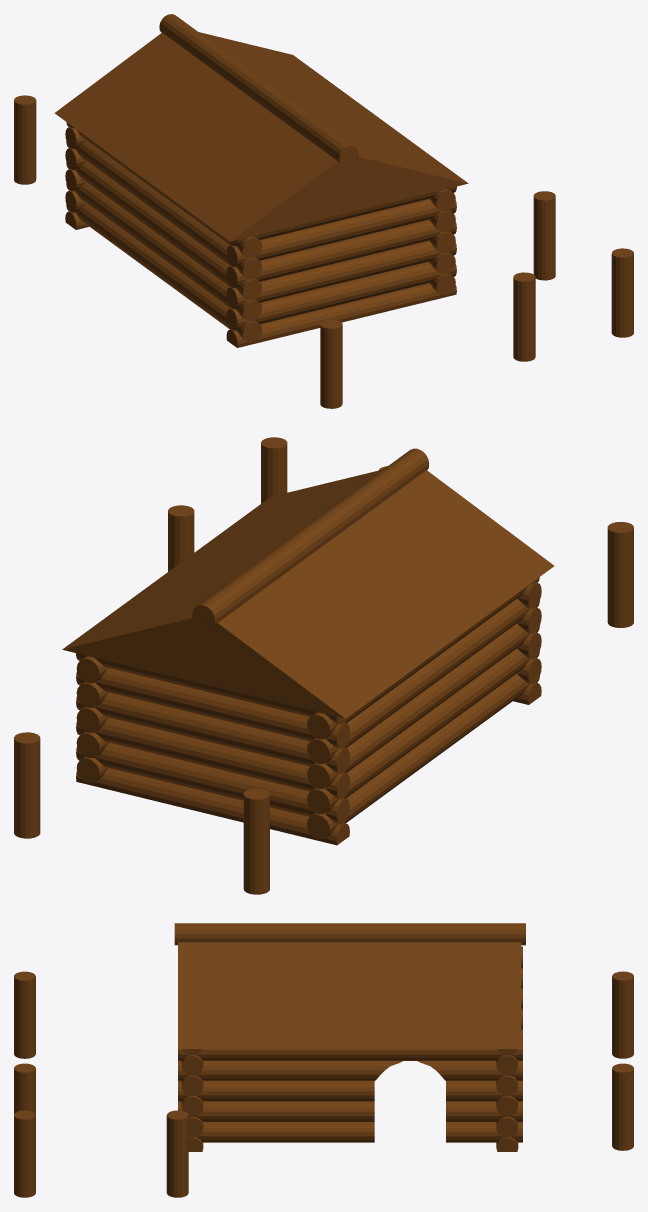
File: Woodcutters Hut.fbx
3 views of the same model, one above another, from view 1: azimuth 30°, elevation 25°; view 2: azimuth 150°, elevation 25°; view 3: azimuth 270°, elevation 25° (orthographic). The views are drawn at different scales.
Parts seen in each view (by area): view 1: Plane; view 2: Plane; view 3: Plane.
Boxes of the visible parts, x1,y1,x2,y2 form: Plane: (14, 14, 633, 408); Plane: (14, 437, 633, 894); Plane: (14, 923, 633, 1197).
Size of the model in its own units: 3.35 by 1.77 by 5.68.
